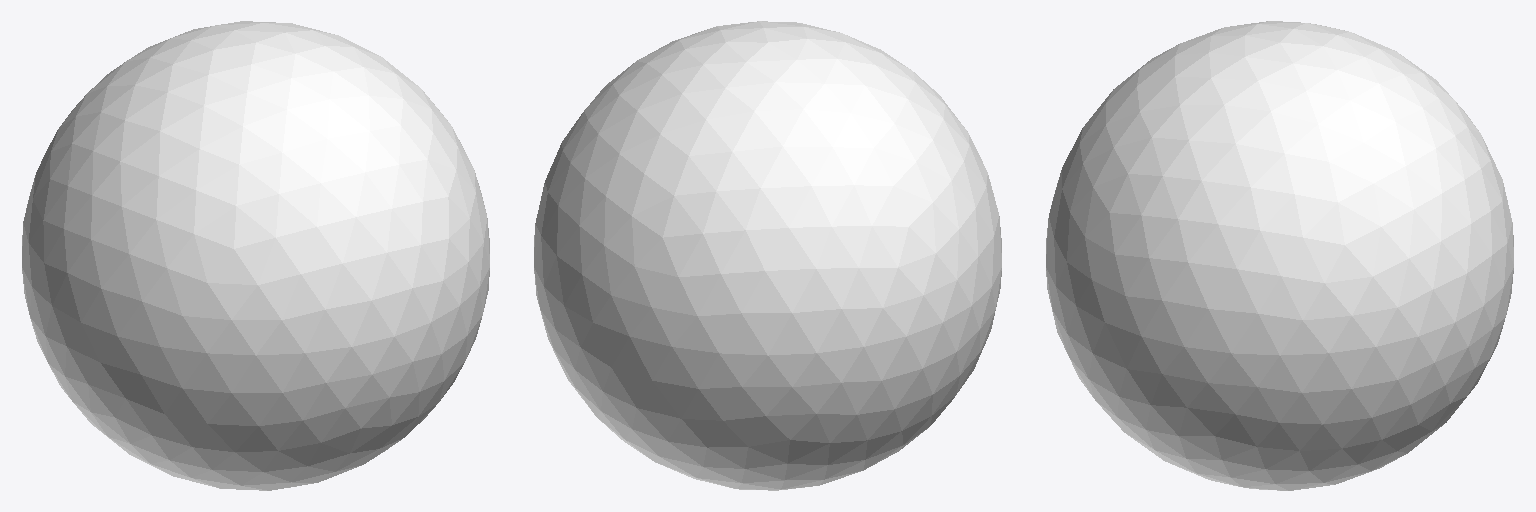
File: spheres.obj
The picture shows the model from 3 angles: view 1: azimuth 30°, elevation 25°; view 2: azimuth 150°, elevation 25°; view 3: azimuth 270°, elevation 25°; orthographic projection.
Size of the model in its own units: 2 by 2 by 1.99.